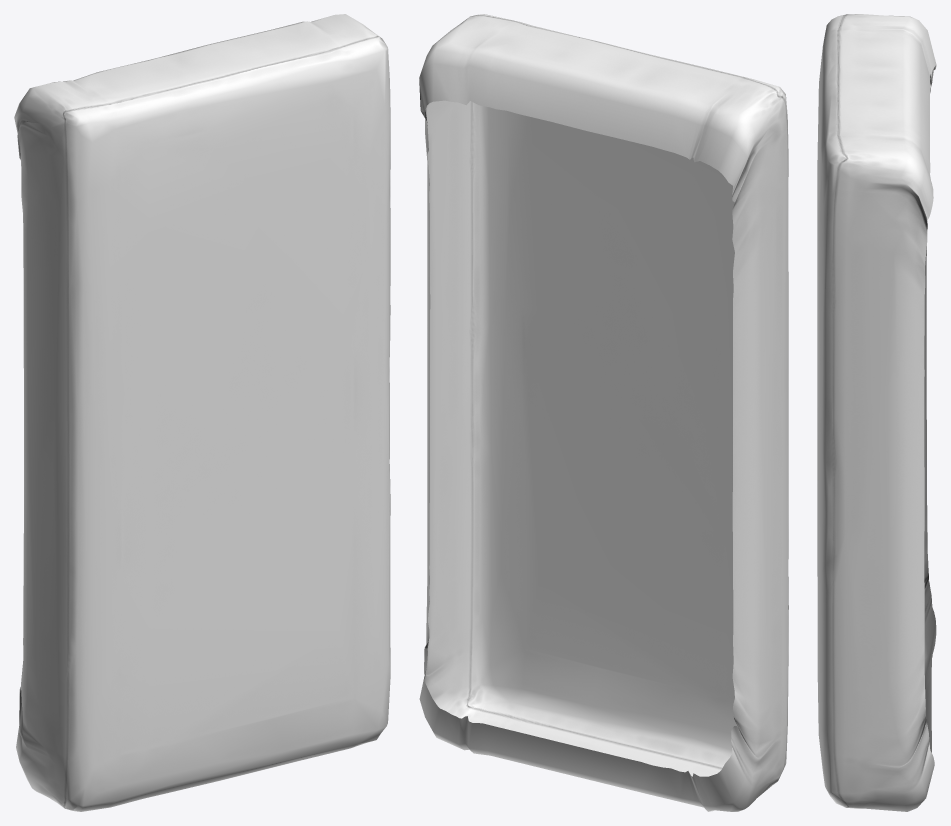
File: BedMattress_26_2BedMattress_26_2_1.obj
3 views of the same model, side by side, from view 1: azimuth 30°, elevation 25°; view 2: azimuth 150°, elevation 25°; view 3: azimuth 270°, elevation 25° (orthographic). The views are drawn at different scales.
Parts seen in each view (by area): view 1: BedMattress_26_2; view 2: BedMattress_26_2; view 3: BedMattress_26_2.
Part boxes in pixels (x1=…): BedMattress_26_2: x1=14, y1=14, x2=390, y2=811; BedMattress_26_2: x1=419, y1=14, x2=788, y2=811; BedMattress_26_2: x1=817, y1=14, x2=936, y2=811.
Size of the model in its own units: 1.14 by 2.32 by 0.3745.
Materials: 1 (1 with a texture image).
